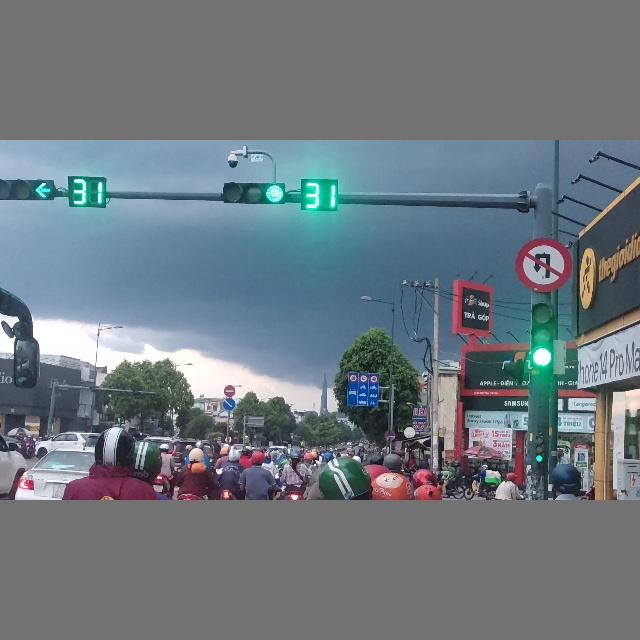P.102: (224, 385, 236, 397)
P.124a*: (515, 237, 572, 292)
R.302a: (223, 397, 235, 410)
R.415a: (347, 371, 379, 406)
